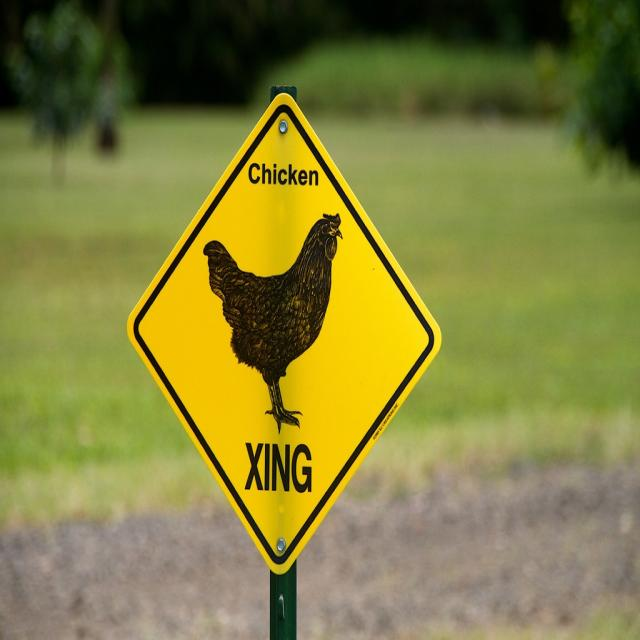Chicken: (206, 202, 332, 448)
